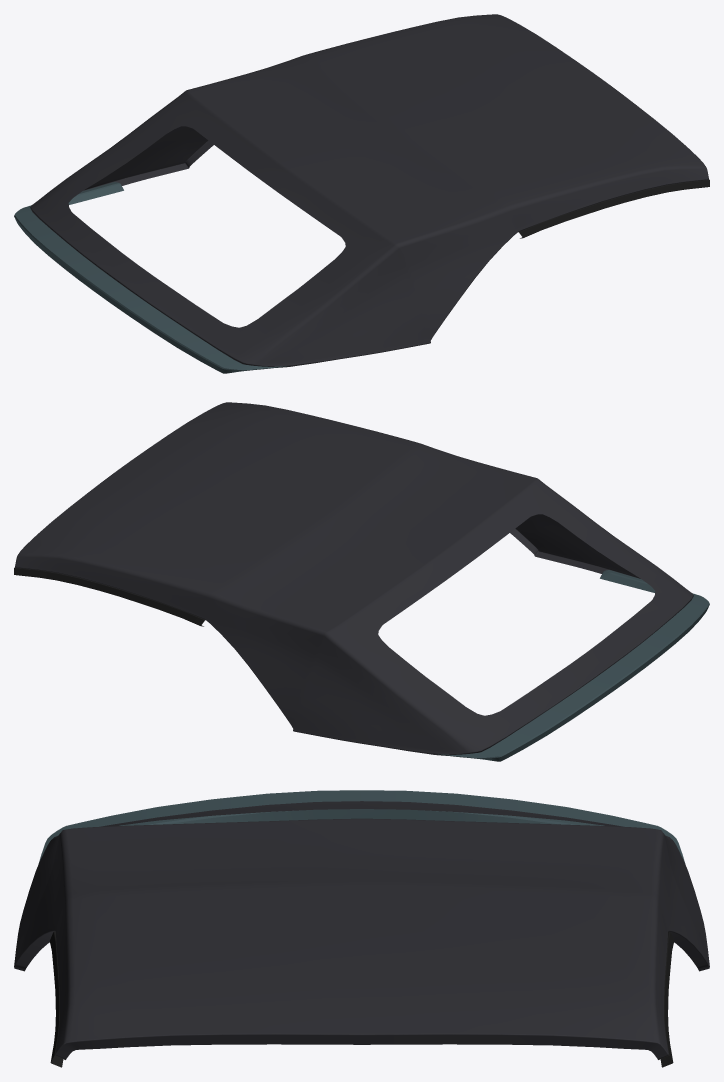
The picture shows the model from 3 angles, top to bottom: view 1: azimuth 30°, elevation 25°; view 2: azimuth 150°, elevation 25°; view 3: azimuth 270°, elevation 25°; orthographic projection. The views are drawn at different scales.
Parts seen in each view (by area): view 1: P222_15_344B_C_1_D_P222_15_344B_C, P222_15_344B_C_P222_15_344B_C_3_DaS, P222_15_344B_C_P222_15_344B_C_2_D, P222_15_344B_C_P222_15_344B_C_3_DaS_E; view 2: P222_15_344B_C_1_D_P222_15_344B_C, P222_15_344B_C_P222_15_344B_C_3_DaS, P222_15_344B_C_P222_15_344B_C_2_D, P222_15_344B_C_P222_15_344B_C_3_DaS_E; view 3: P222_15_344B_C_1_D_P222_15_344B_C, P222_15_344B_C_P222_15_344B_C_3_DaS, P222_15_344B_C_P222_15_344B_C_2_D, P222_15_344B_C_P222_15_344B_C_3_DaS_E.
Part boxes in pixels (box(x1,y1,x2,y2)): P222_15_344B_C_1_D_P222_15_344B_C: box(30, 14, 708, 367); P222_15_344B_C_P222_15_344B_C_3_DaS: box(14, 182, 285, 373); P222_15_344B_C_P222_15_344B_C_2_D: box(518, 179, 709, 238); P222_15_344B_C_P222_15_344B_C_3_DaS_E: box(14, 183, 286, 370); P222_15_344B_C_1_D_P222_15_344B_C: box(15, 402, 693, 755); P222_15_344B_C_P222_15_344B_C_3_DaS: box(438, 570, 709, 761); P222_15_344B_C_P222_15_344B_C_2_D: box(14, 567, 205, 626); P222_15_344B_C_P222_15_344B_C_3_DaS_E: box(437, 571, 709, 758); P222_15_344B_C_1_D_P222_15_344B_C: box(14, 801, 709, 1059); P222_15_344B_C_P222_15_344B_C_3_DaS: box(38, 790, 685, 863); P222_15_344B_C_P222_15_344B_C_2_D: box(49, 931, 674, 1067); P222_15_344B_C_P222_15_344B_C_3_DaS_E: box(149, 810, 574, 824).
Size of the model in its own units: 186 by 37.06 by 154.
